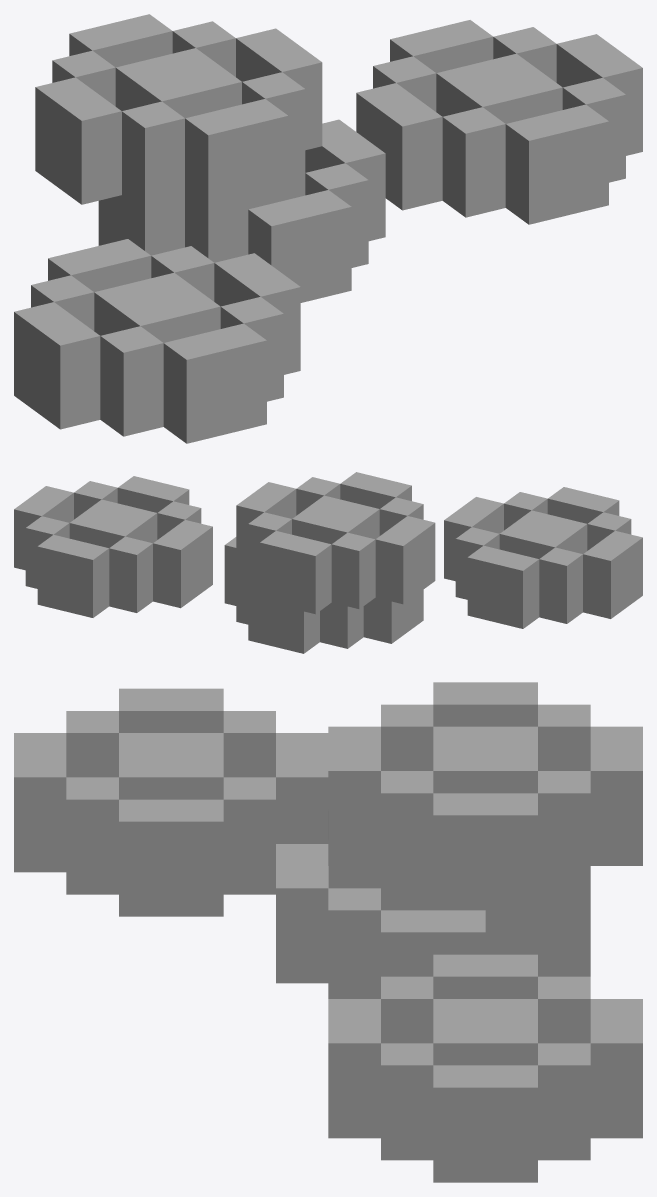
The model's file is Coins_3_Silver.glb.
3 views of the same model, one above another, from view 1: azimuth 30°, elevation 25°; view 2: azimuth 150°, elevation 25°; view 3: azimuth 270°, elevation 25° (orthographic). The views are drawn at different scales.
Parts seen in each view (by area): view 1: Coins_3_Silver; view 2: Coins_3_Silver; view 3: Coins_3_Silver.
Part boxes in pixels (x1=…): Coins_3_Silver: x1=14, y1=14, x2=642, y2=443; Coins_3_Silver: x1=14, y1=472, x2=642, y2=653; Coins_3_Silver: x1=14, y1=682, x2=642, y2=1182.
Bounding box in the file's own units: 1.8 × 0.4 × 1.2.
Materials: 1 (1 with a texture image).
